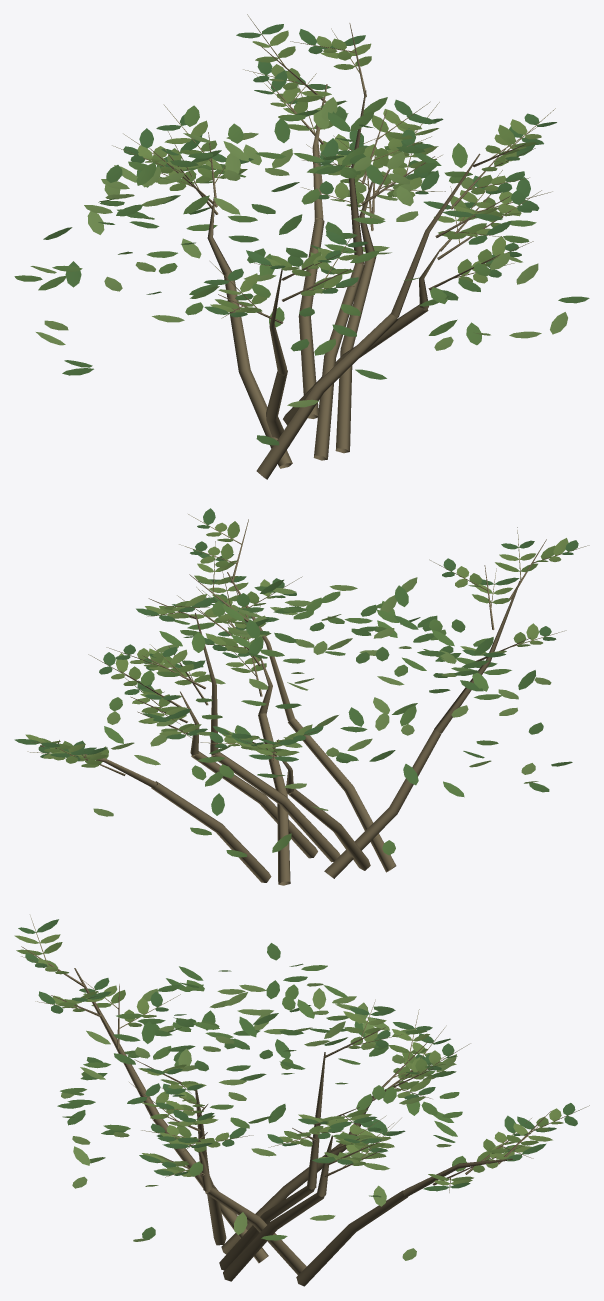
The model's file is LentisqueRampant_3_Low.fbx.
3 views of the same model, one above another, from view 1: azimuth 30°, elevation 25°; view 2: azimuth 150°, elevation 25°; view 3: azimuth 270°, elevation 25° (orthographic). The views are drawn at different scales.
Parts seen in each view (by area): view 1: LentisqueRampant_3_Low; view 2: LentisqueRampant_3_Low; view 3: LentisqueRampant_3_Low.
Part boxes in pixels (bbox=[...]): LentisqueRampant_3_Low: bbox=[14, 14, 589, 479]; LentisqueRampant_3_Low: bbox=[14, 508, 589, 885]; LentisqueRampant_3_Low: bbox=[14, 915, 589, 1286].
Size of the model in its own units: 179 by 118 by 208.
